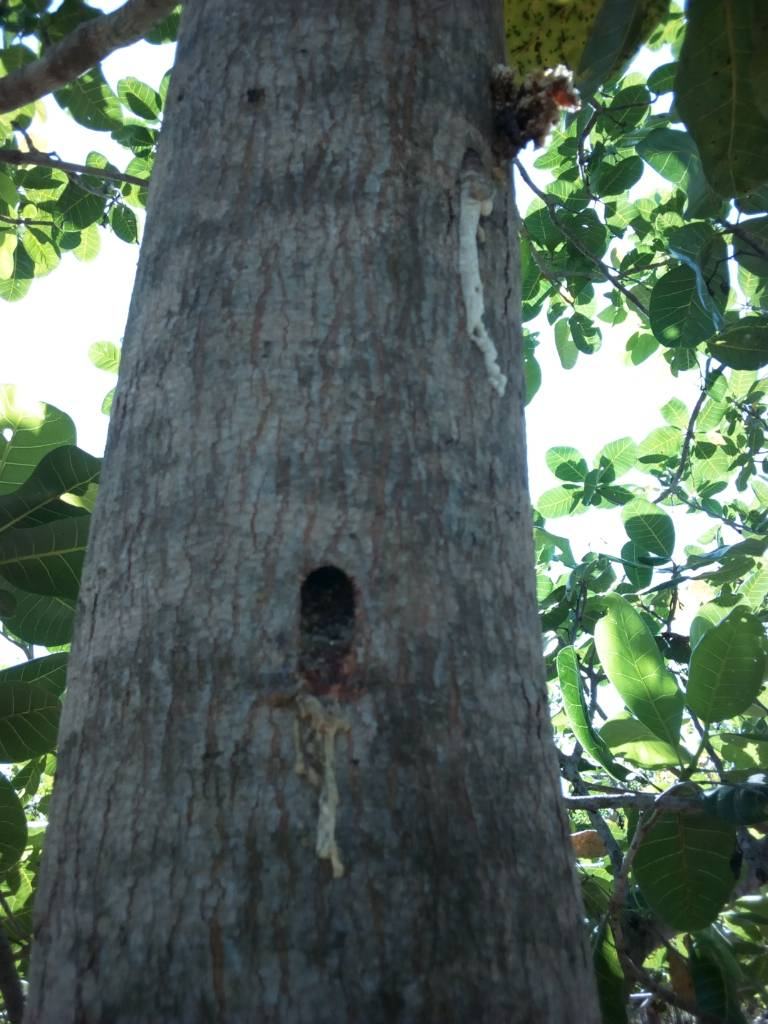Apate terebrans: (235, 522, 438, 731)
